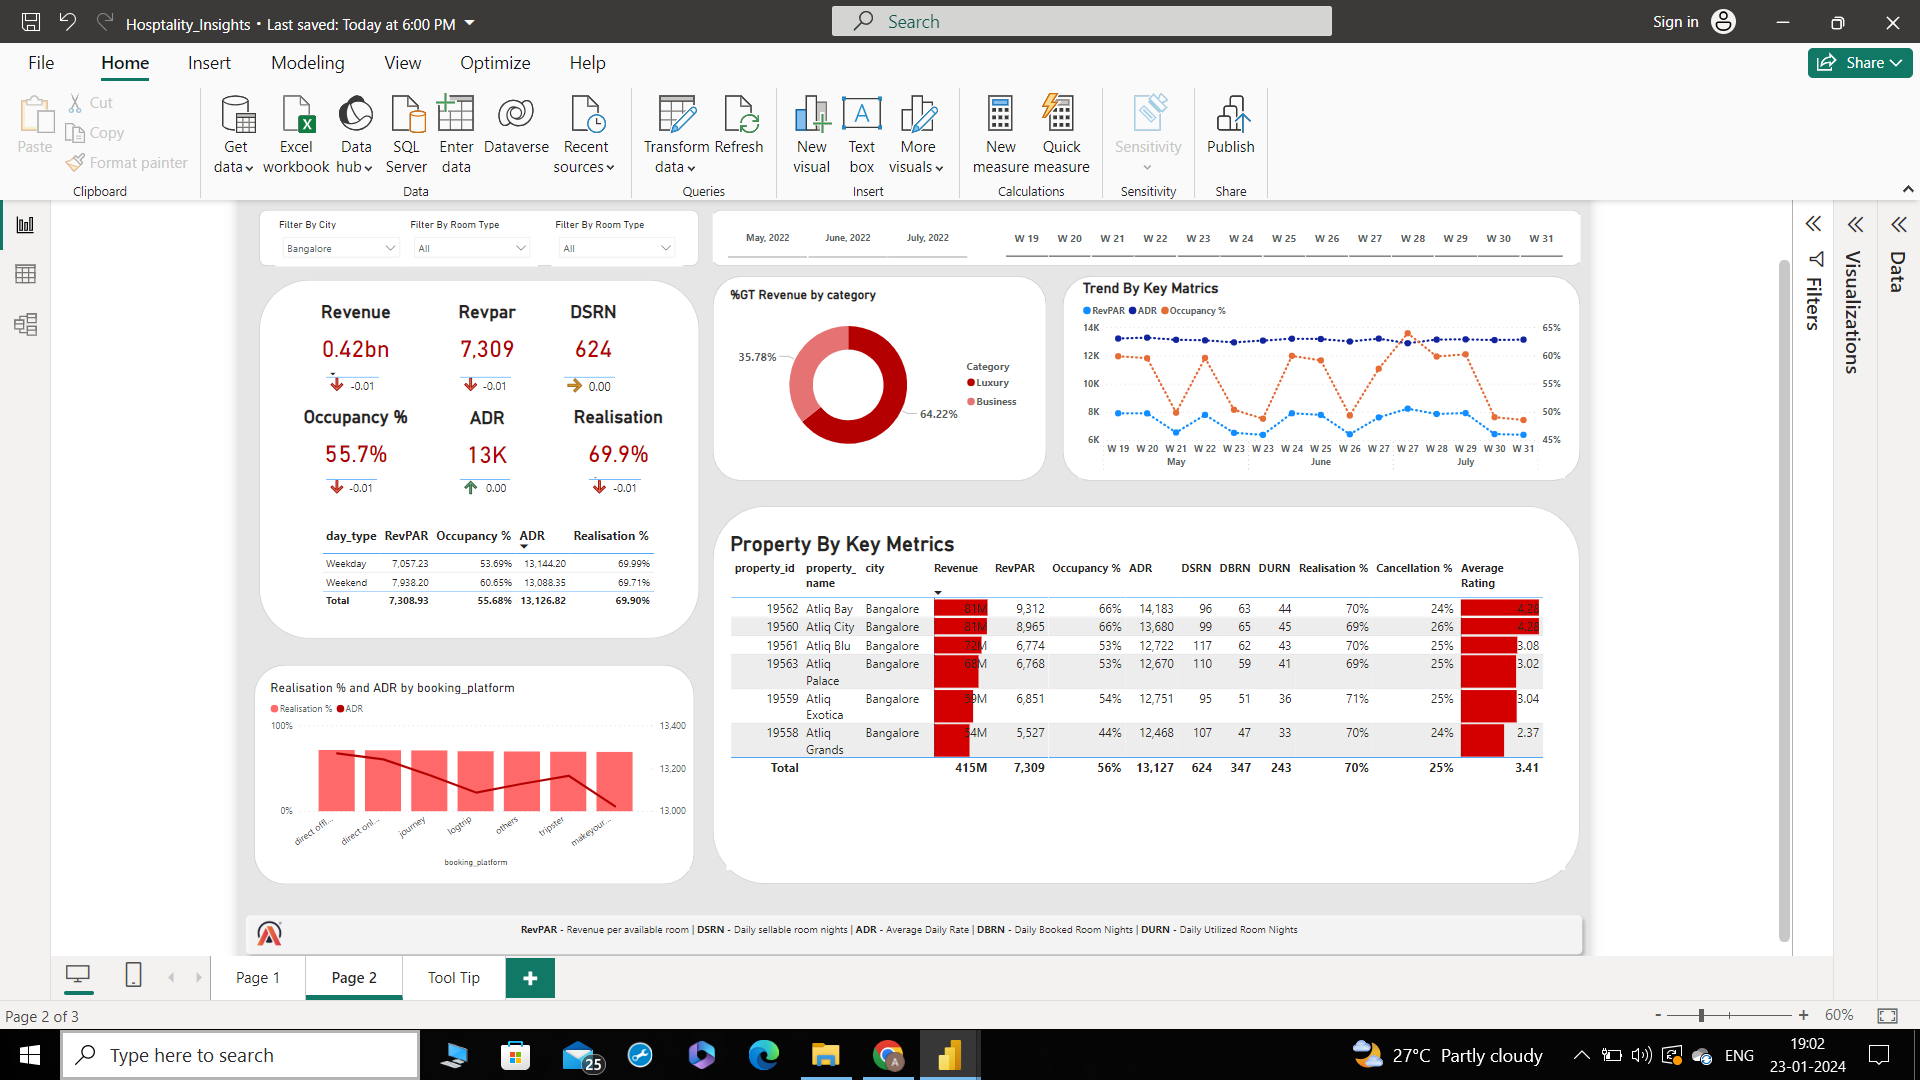

This screenshot's page, from the dashboard's own definition file:
{"tool":"powerbi","page":{"name":"Page 2","canvas":[1800,1100],"ordinal":1},"visuals":[{"type":"shape","box":[0,1016,1800,70],"z":0},{"type":"shape","box":[20,691.4,587.1,292.9],"z":1000},{"type":"shape","box":[632,480,1156,504],"z":2000},{"type":"shape","box":[1098.3,173.3,690,273.3],"z":3000},{"type":"shape","box":[631.7,173.3,445,273.3],"z":4000},{"type":"shape","box":[631.7,85,1156.7,75],"z":5000},{"type":"shape","box":[27.1,178.6,587.1,478.6],"z":6000},{"type":"shape","box":[26.7,85,586.7,75],"z":7000},{"type":"tableEx","title":"Property By Key Metrics","fields":{"Values":["dim_hotels.property_id","dim_hotels.property_name","dim_hotels.city","key_measures (2).Revenue","key_measures (2).RevPAR","key_measures (2).Occupancy %","key_measures (2).ADR","key_measures (2).DSRN","key_measures (2).DBRN","key_measures (2).DURN","key_measures (2).Realisation %","key_measures (2).Cancellation %"]},"box":[650,515.7,1118.6,450],"z":8000},{"type":"slicer","title":"Filter By City","fields":{"Values":["dim_hotels.city"]},"box":[48,96,176,64],"z":9000},{"type":"slicer","title":"Filter By Room Type","fields":{"Values":["dim_rooms.room_class"]},"box":[417,96,175,64],"z":10000},{"type":"slicer","fields":{"Values":["dim_date.mmm yy"]},"box":[631.7,90,358.3,65],"z":11000},{"type":"slicer","fields":{"Values":["dim_date.week no"]},"box":[996.7,91.7,791.7,63.3],"z":12000},{"type":"tableEx","fields":{"Values":["key_measures (2).\"Revenue WoW change %"]},"box":[110.8,281.5,88.5,57.7],"z":13000},{"type":"donutChart","fields":{"Category":["dim_hotels.category"],"Y":["key_measures (2).Revenue"]},"box":[650,188.3,405,241.7],"z":14000},{"type":"lineStackedColumnComboChart","fields":{"Category":["fact_bookings.booking_platform"],"Y":["key_measures (2).Realisation %"],"Y2":["key_measures (2).ADR"]},"box":[37.1,711.4,564.3,254.3],"z":15000},{"type":"lineChart","title":"Trend By Key Matrics","fields":{"Category":["dim_date.mmm yy.Variation.Date Hierarchy.Month","dim_date.week no"],"Y2":["key_measures (2).Occupancy %"],"Y":["key_measures (2).RevPAR","key_measures (2).ADR"]},"box":[1120,178.3,648.3,265],"z":16000},{"type":"tableEx","fields":{"Values":["dim_date.day_type","key_measures (2).RevPAR","key_measures (2).Occupancy %","key_measures (2).ADR","key_measures (2).Realisation %"]},"box":[105,500,455,126.7],"z":17000},{"type":"slicer","title":"Filter By Room Type","fields":{"Values":["dim_rooms.room_class"]},"box":[224,96,175,64],"z":18000},{"type":"image","box":[0,1028,81.3,42.7],"z":20000},{"type":"textbox","box":[345,1029.6,1093.6,39],"z":21000},{"type":"tableEx","fields":{"Values":["key_measures (2).\"DSRN WoW change %"]},"box":[426.9,281.5,88.5,56.2],"z":22000},{"type":"tableEx","fields":{"Values":["key_measures (2).\"Revpar WoW change %"]},"box":[287.7,281.5,89.2,55.4],"z":23000},{"type":"card","title":"DSRN","fields":{"Values":["key_measures (2).DSRN"]},"box":[384.3,206.8,175,95],"z":24000},{"type":"card","title":"Revpar","fields":{"Values":["key_measures (2).RevPAR"]},"box":[242.7,206.5,175,95],"z":25000},{"type":"card","title":"Revenue","fields":{"Values":["key_measures (2).Revenue"]},"box":[67.7,206.5,175,95],"z":26000},{"type":"tableEx","fields":{"Values":["key_measures (2).\"Occupancy WoW change %"]},"box":[110.8,417.7,88.5,57.7],"z":27000},{"type":"card","title":"Occupancy %","fields":{"Values":["key_measures (2).Occupancy %"]},"box":[67.7,347.5,175,95],"z":28000},{"type":"tableEx","fields":{"Values":["key_measures (2).\"ADR WoW change %"]},"box":[287.7,417.7,88.5,57.7],"z":29000},{"type":"tableEx","fields":{"Values":["key_measures (2).\"Revenue WoW change %"]},"box":[460,418.5,88.5,57.7],"z":30000},{"type":"card","title":"ADR","fields":{"Values":["key_measures (2).ADR"]},"box":[242.7,348.5,175,95],"z":31000},{"type":"card","title":"Realisation","fields":{"Values":["key_measures (2).Realisation %"]},"box":[417.7,347.5,175,95],"z":31500}]}

Visuals, with their boxes on the page's 1800x1100 design canvas (x1, y1, x2, y2). These are canvas units, not pixel positions in the 1920x1080 screenshot, which may show the page scaled, cropped or inside an application window:
shape: [left=0, top=1016, right=1800, bottom=1086]
shape: [left=20, top=691, right=607, bottom=984]
shape: [left=632, top=480, right=1788, bottom=984]
shape: [left=1098, top=173, right=1788, bottom=447]
shape: [left=632, top=173, right=1077, bottom=447]
shape: [left=632, top=85, right=1788, bottom=160]
shape: [left=27, top=179, right=614, bottom=657]
shape: [left=27, top=85, right=613, bottom=160]
"Property By Key Metrics" tableEx: [left=650, top=516, right=1769, bottom=966]
"Filter By City" slicer: [left=48, top=96, right=224, bottom=160]
"Filter By Room Type" slicer: [left=417, top=96, right=592, bottom=160]
slicer - dim_date.mmm yy: [left=632, top=90, right=990, bottom=155]
slicer - dim_date.week no: [left=997, top=92, right=1788, bottom=155]
tableEx - key_measures (2)."Revenue WoW change %: [left=111, top=282, right=199, bottom=339]
donutChart - dim_hotels.category x key_measures (2).Revenue: [left=650, top=188, right=1055, bottom=430]
lineStackedColumnComboChart - fact_bookings.booking_platform x key_measures (2).Realisation %: [left=37, top=711, right=601, bottom=966]
"Trend By Key Matrics" lineChart: [left=1120, top=178, right=1768, bottom=443]
tableEx - dim_date.day_type x key_measures (2).RevPAR: [left=105, top=500, right=560, bottom=627]
"Filter By Room Type" slicer: [left=224, top=96, right=399, bottom=160]
image: [left=0, top=1028, right=81, bottom=1071]
textbox: [left=345, top=1030, right=1439, bottom=1069]
tableEx - key_measures (2)."DSRN WoW change %: [left=427, top=282, right=515, bottom=338]
tableEx - key_measures (2)."Revpar WoW change %: [left=288, top=282, right=377, bottom=337]
"DSRN" card: [left=384, top=207, right=559, bottom=302]
"Revpar" card: [left=243, top=206, right=418, bottom=302]
"Revenue" card: [left=68, top=206, right=243, bottom=302]
tableEx - key_measures (2)."Occupancy WoW change %: [left=111, top=418, right=199, bottom=475]
"Occupancy %" card: [left=68, top=348, right=243, bottom=442]
tableEx - key_measures (2)."ADR WoW change %: [left=288, top=418, right=376, bottom=475]
tableEx - key_measures (2)."Revenue WoW change %: [left=460, top=418, right=548, bottom=476]
"ADR" card: [left=243, top=348, right=418, bottom=444]
"Realisation" card: [left=418, top=348, right=593, bottom=442]
